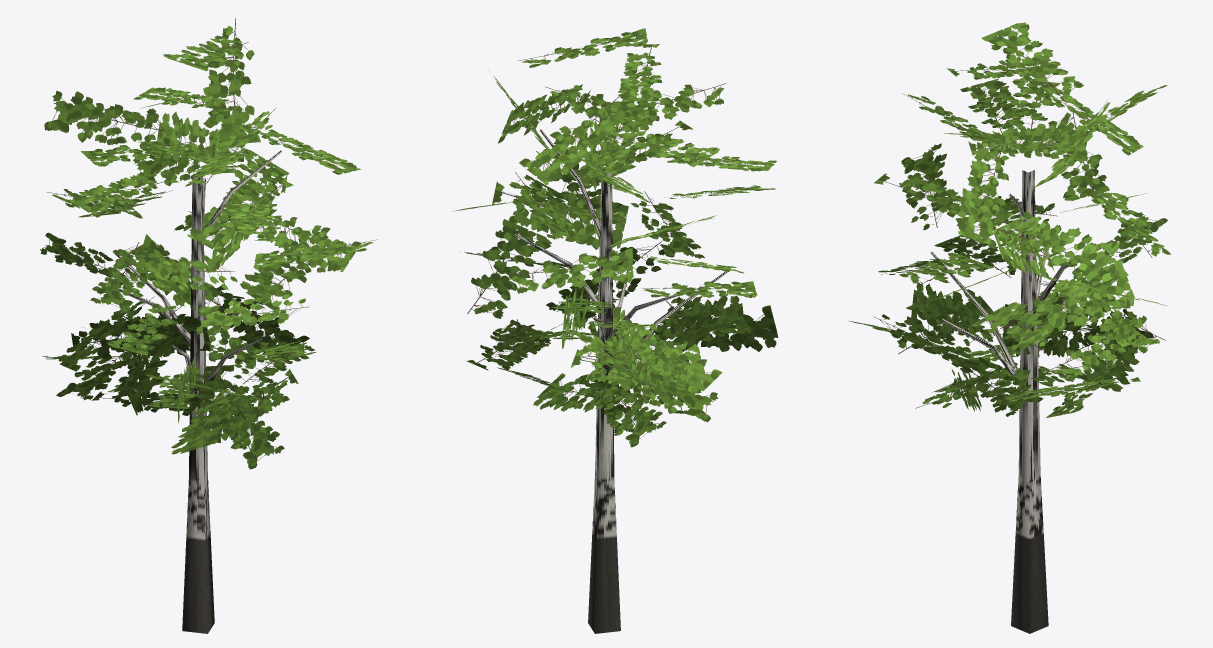
Rendered from mid.glb.
The picture shows the model from 3 angles, left to right: view 1: azimuth 30°, elevation 25°; view 2: azimuth 150°, elevation 25°; view 3: azimuth 270°, elevation 25°; orthographic projection.
Parts seen in each view (by area): view 1: birch_01; view 2: birch_01; view 3: birch_01.
Part boxes in pixels (x1=…): birch_01: x1=40, y1=18, x2=377, y2=633; birch_01: x1=452, y1=28, x2=778, y2=633; birch_01: x1=848, y1=22, x2=1170, y2=633.
Size of the model in its own units: 9.53 by 17.05 by 9.95.
Materials: 2 (2 with a texture image).
